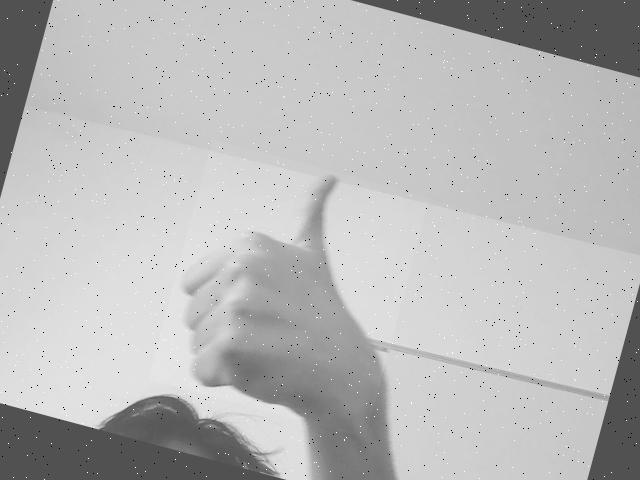good: (176, 171, 386, 430)
